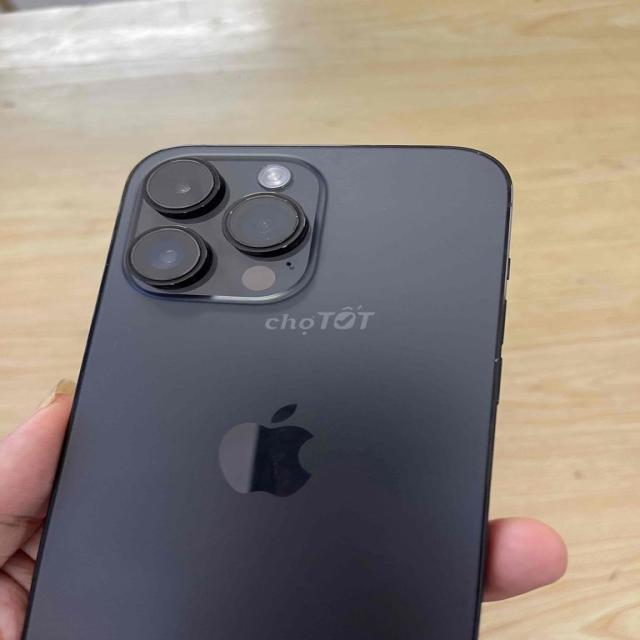gen_14: (21, 140, 515, 640)
